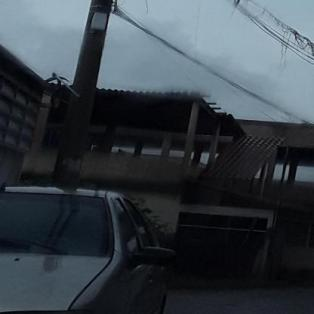Poste: (39, 0, 157, 183)
